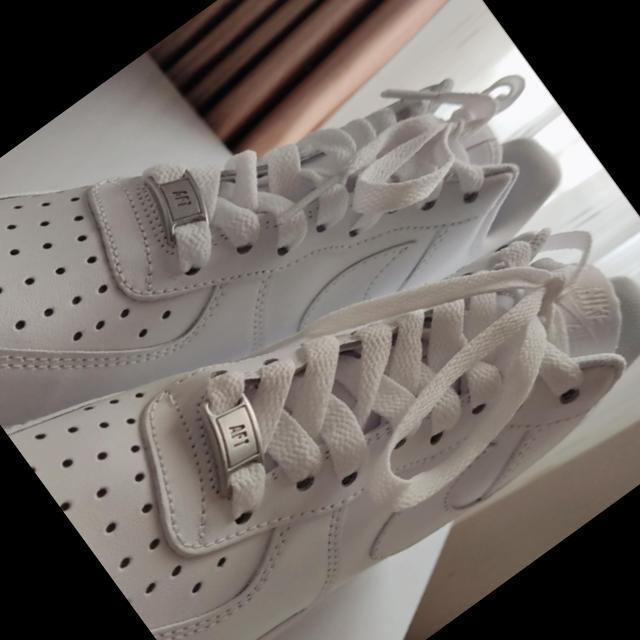nike original air force: (0, 59, 640, 640), (0, 0, 594, 555)
